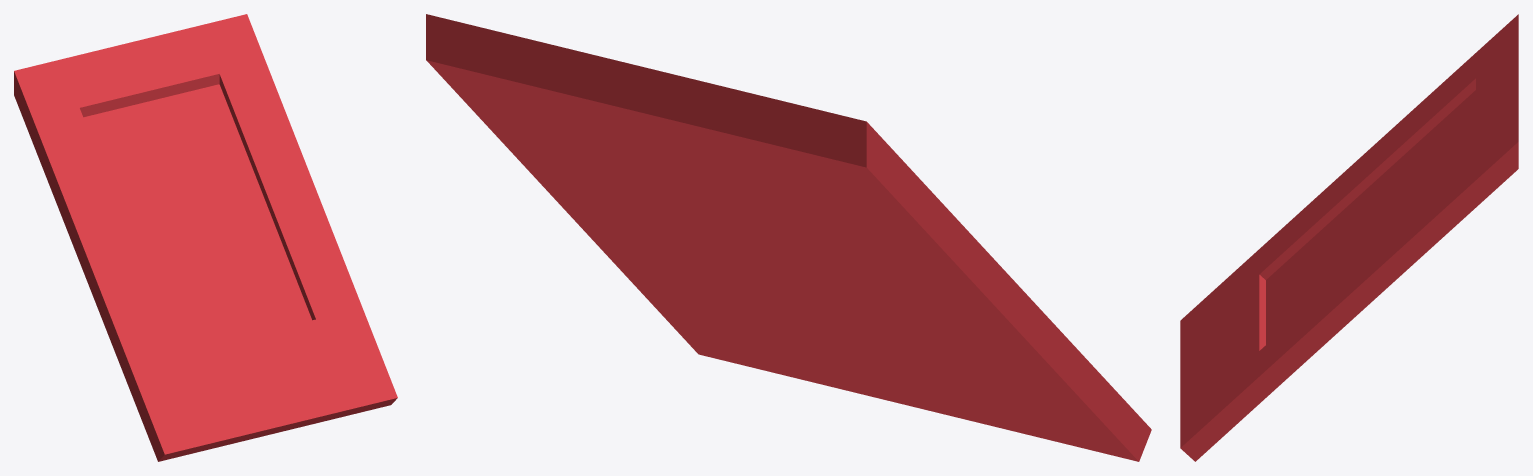
Rendered from roof_skylight_1.glb.
3 views of the same model, side by side, from view 1: azimuth 30°, elevation 25°; view 2: azimuth 150°, elevation 25°; view 3: azimuth 270°, elevation 25° (orthographic). The views are drawn at different scales.
Visible parts, largest first — view 1: roof_skylight_1; view 2: roof_skylight_1; view 3: roof_skylight_1.
Boxes of the visible parts, x1,y1,x2,y2 form: roof_skylight_1: (14, 14, 397, 461); roof_skylight_1: (426, 14, 1151, 461); roof_skylight_1: (1180, 14, 1518, 461).
Bounding box in the file's own units: 1 × 1.17 × 1.12.
